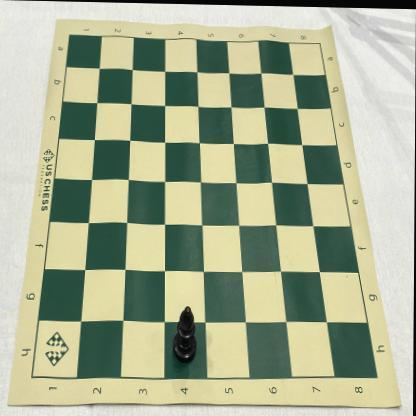black-bishop: (173, 305, 198, 363)
